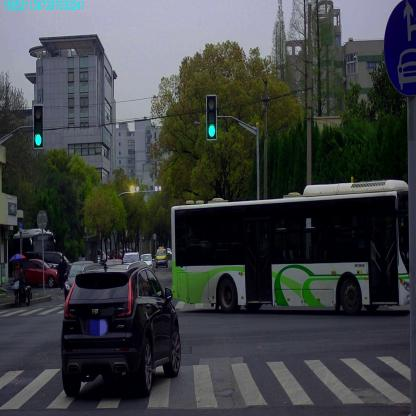traffic-light: (206, 95, 216, 140), (33, 106, 43, 147)
